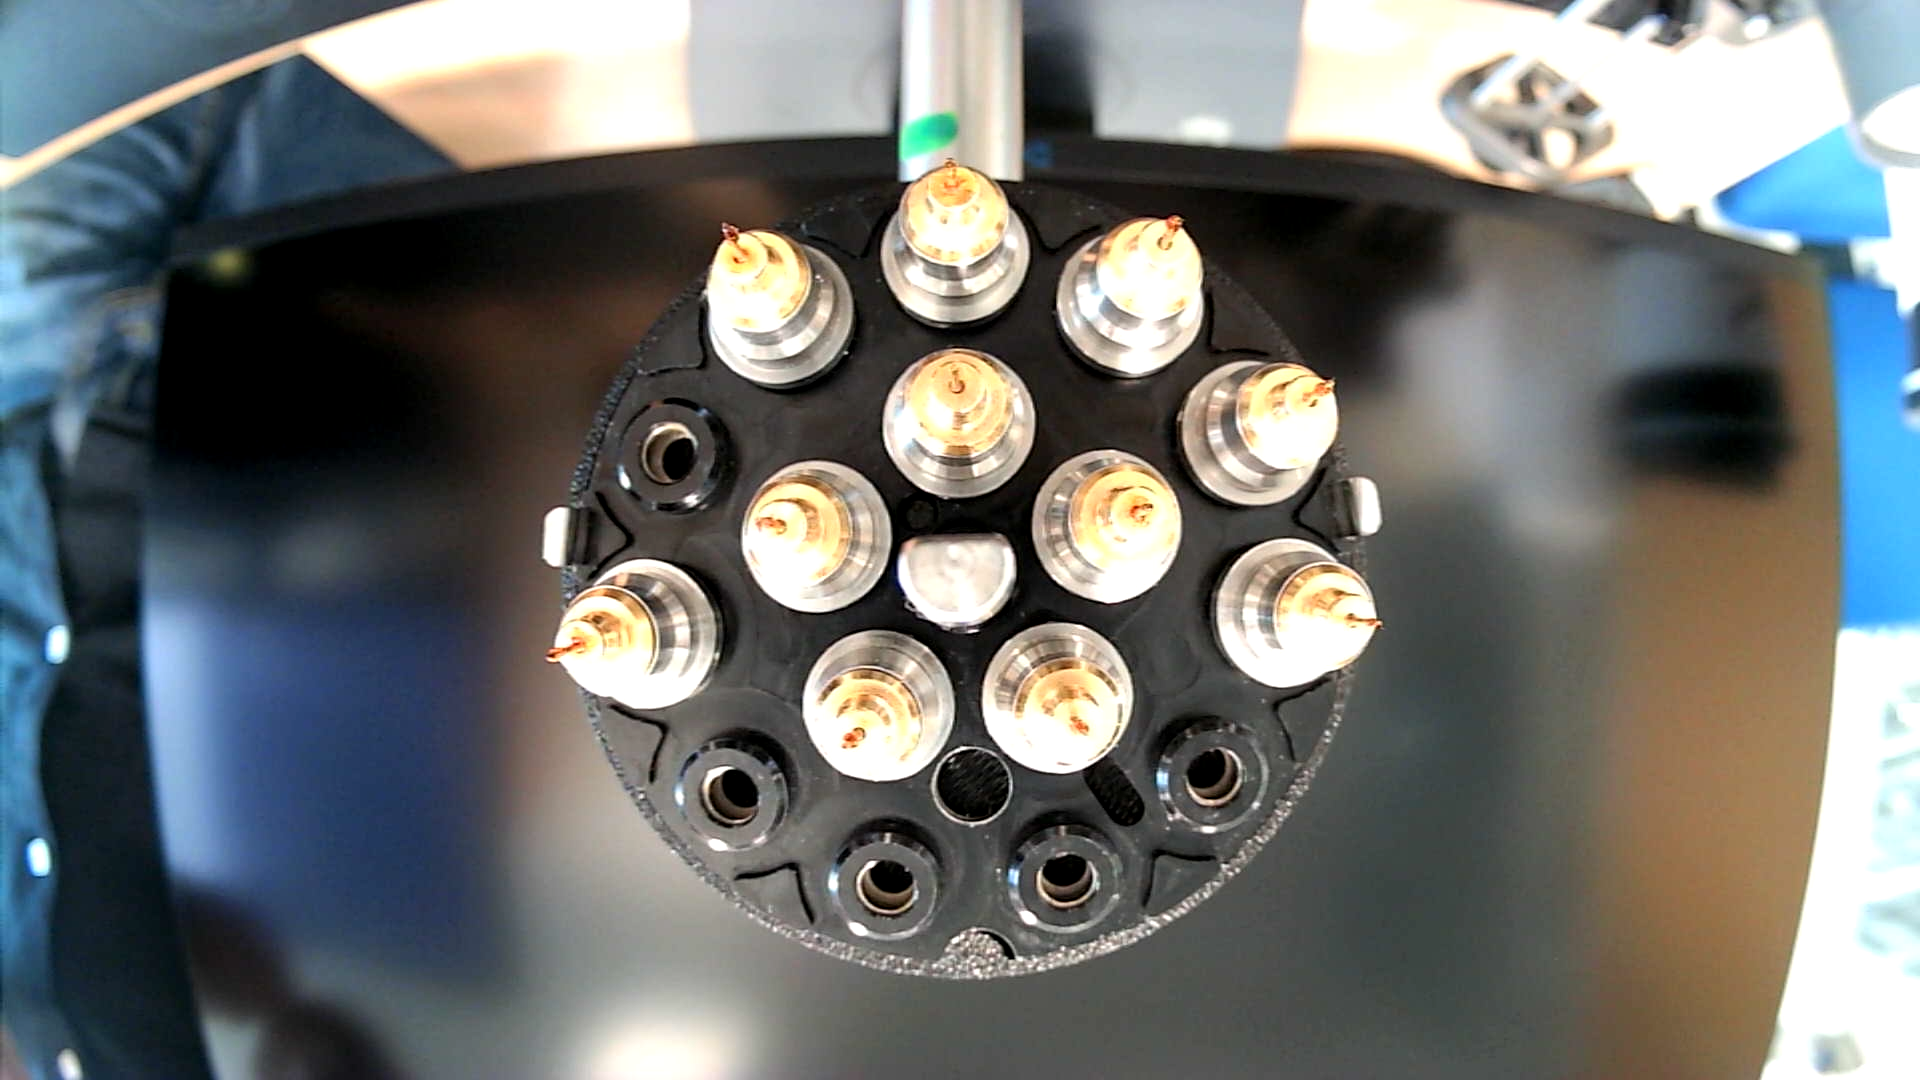empty: (1000, 808, 1131, 942), (607, 397, 745, 524), (670, 727, 802, 858), (822, 816, 955, 945), (1145, 712, 1273, 841)
hole: (930, 745, 1014, 831)
pin: (543, 555, 725, 715), (700, 218, 857, 396), (1211, 537, 1385, 694), (878, 158, 1031, 334), (1054, 212, 1205, 384), (800, 626, 959, 785), (1179, 359, 1342, 512), (738, 458, 894, 617), (880, 347, 1038, 501), (1030, 448, 1184, 607), (980, 618, 1135, 774)
rod: (891, 527, 1025, 637)
